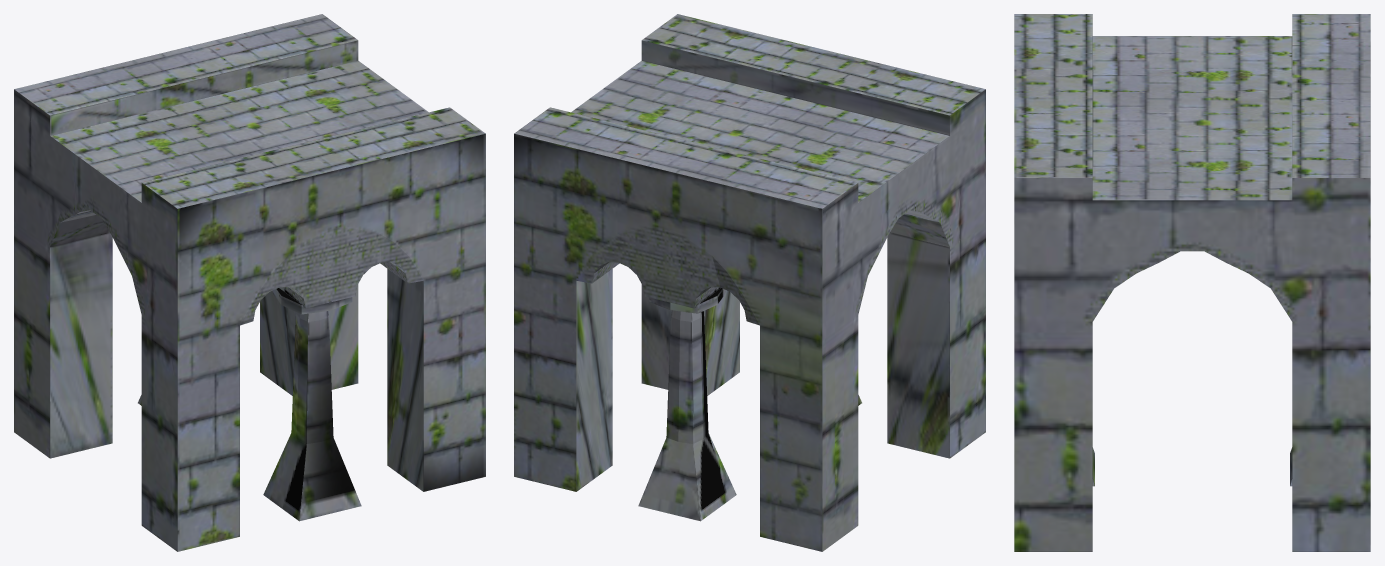
Rendered from revak.fbx.
The picture shows the model from 3 angles, left to right: view 1: azimuth 30°, elevation 25°; view 2: azimuth 150°, elevation 25°; view 3: azimuth 270°, elevation 25°; orthographic projection. The views are drawn at different scales.
Visible parts, largest first — view 1: Cube; view 2: Cube; view 3: Cube.
Boxes of the visible parts, x1,y1,x2,y2 form: Cube: (14,14,485,551); Cube: (514,14,985,551); Cube: (1014,14,1370,551).
Size of the model in its own units: 988 by 1050 by 907.
Materials: 1 (1 with a texture image).
